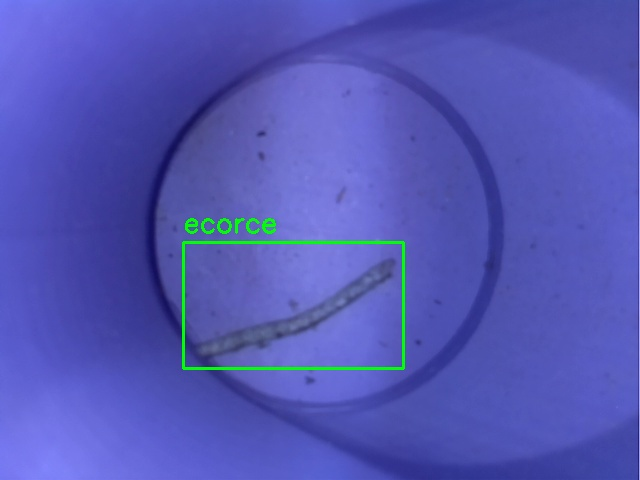ecorce: (183, 242, 403, 368)
